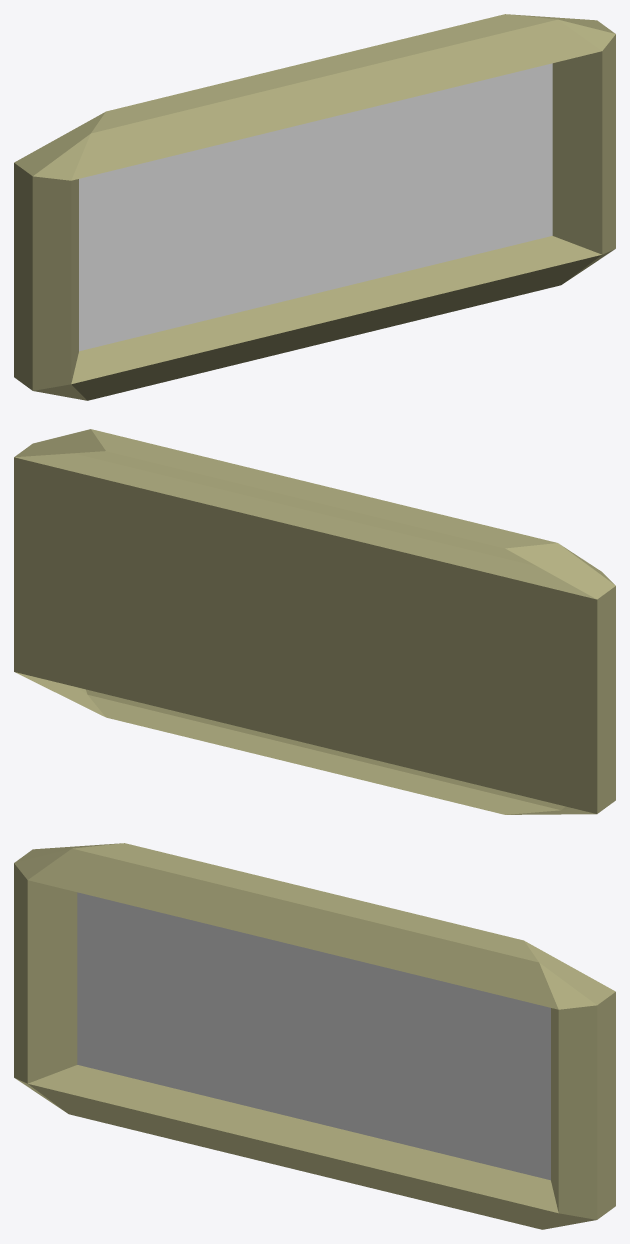
3 renders of one model, top to bottom at view 1: azimuth 30°, elevation 25°; view 2: azimuth 150°, elevation 25°; view 3: azimuth 330°, elevation 25°, orthographic.
Visible parts, largest first — view 1: 平面, 平面.001; view 2: 平面; view 3: 平面, 平面.001.
Boxes of the visible parts, x1=… form: 平面: x1=14, y1=14, x2=615, y2=400; 平面.001: x1=79, y1=63, x2=552, y2=351; 平面: x1=14, y1=429, x2=615, y2=814; 平面: x1=14, y1=843, x2=615, y2=1229; 平面.001: x1=77, y1=892, x2=550, y2=1180.
Bounding box in the file's own units: 491 × 214 × 45.51.
